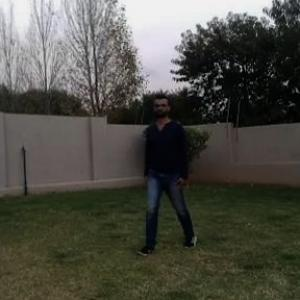follow: (143, 100, 177, 236)
